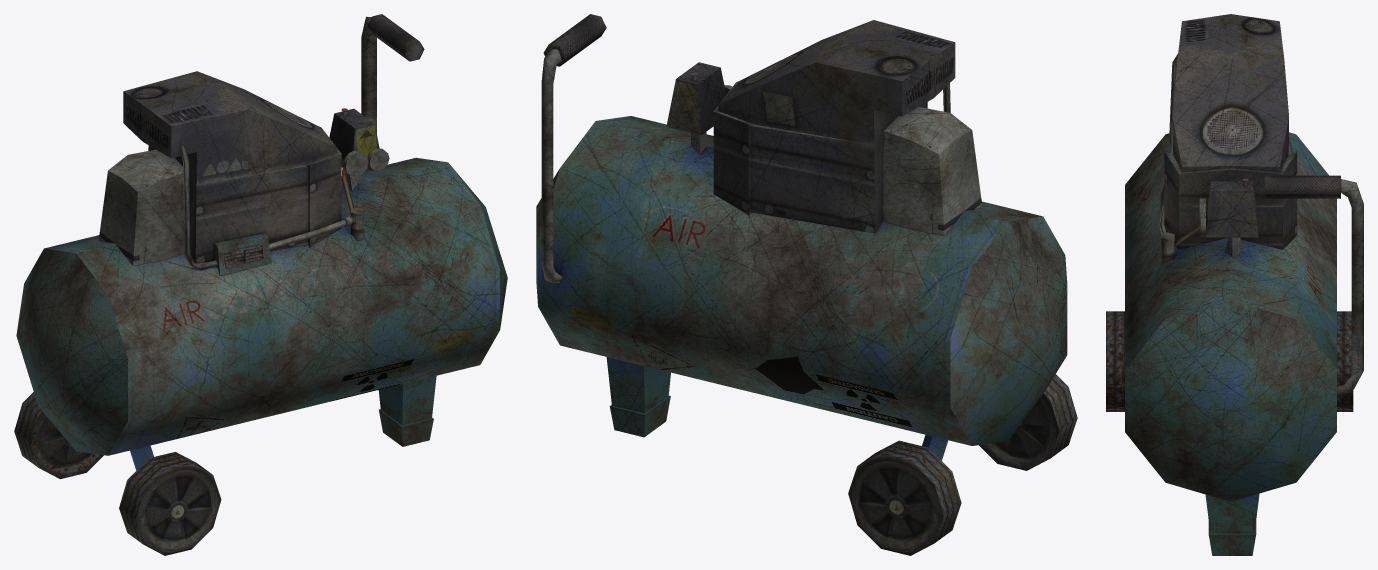
The model's file is air_compressor.FBX.
The picture shows the model from 3 angles, left to right: view 1: azimuth 30°, elevation 25°; view 2: azimuth 150°, elevation 25°; view 3: azimuth 270°, elevation 25°; orthographic projection. The views are drawn at different scales.
Visible parts, largest first — view 1: air_compressor; view 2: air_compressor; view 3: air_compressor.
Part boxes in pixels (bbox=[...]): air_compressor: bbox=[14, 14, 507, 555]; air_compressor: bbox=[536, 14, 1077, 555]; air_compressor: bbox=[1106, 14, 1363, 555].
Size of the model in its own units: 0.659 by 0.5599 by 0.3235.
